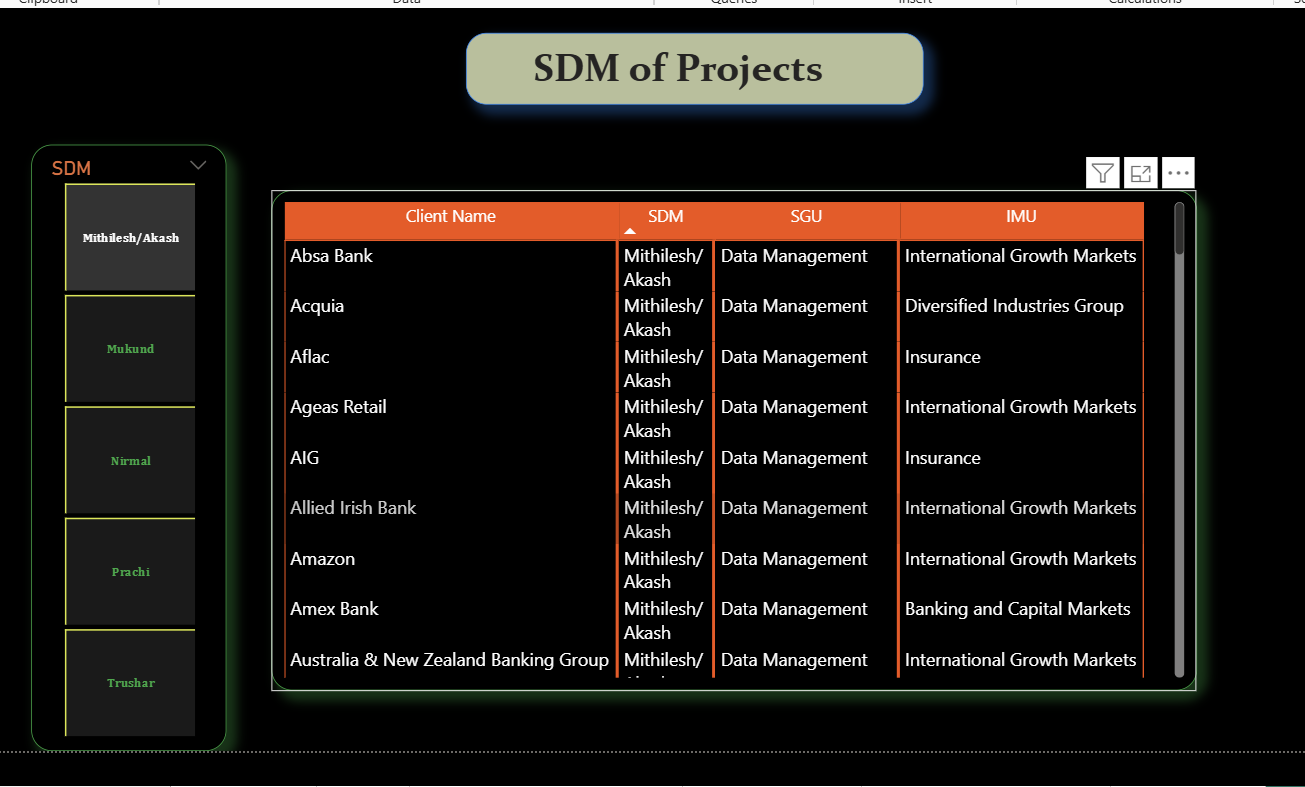

Layout of this report page (visuals, bound fields, positions):
{"tool":"powerbi","page":{"name":"SDM","canvas":[1280,720],"ordinal":1},"visuals":[{"type":"textbox","box":[457.3,24.2,443.7,69.7],"z":0},{"type":"image","box":[0,0,128.5,119.1],"z":1000},{"type":"tableEx","fields":{"Values":["SDM's.Client Name","SDM's.SDM","SDM's.SGU","SDM's.IMU"]},"box":[268.4,176.8,896.9,484.7],"z":2000},{"type":"slicer","fields":{"Values":["SDM's.SDM"]},"box":[35.7,132.5,189.3,587.5],"z":4000}]}

Visuals, with their boxes on the page's 1280x720 design canvas (x1, y1, x2, y2). These are canvas units, not pixel positions in the 1305x787 screenshot, which may show the page scaled, cropped or inside an application window:
textbox: (457,24,901,94)
image: (0,0,128,119)
tableEx - SDM's.Client Name x SDM's.SDM: (268,177,1165,662)
slicer - SDM's.SDM: (36,132,225,720)
